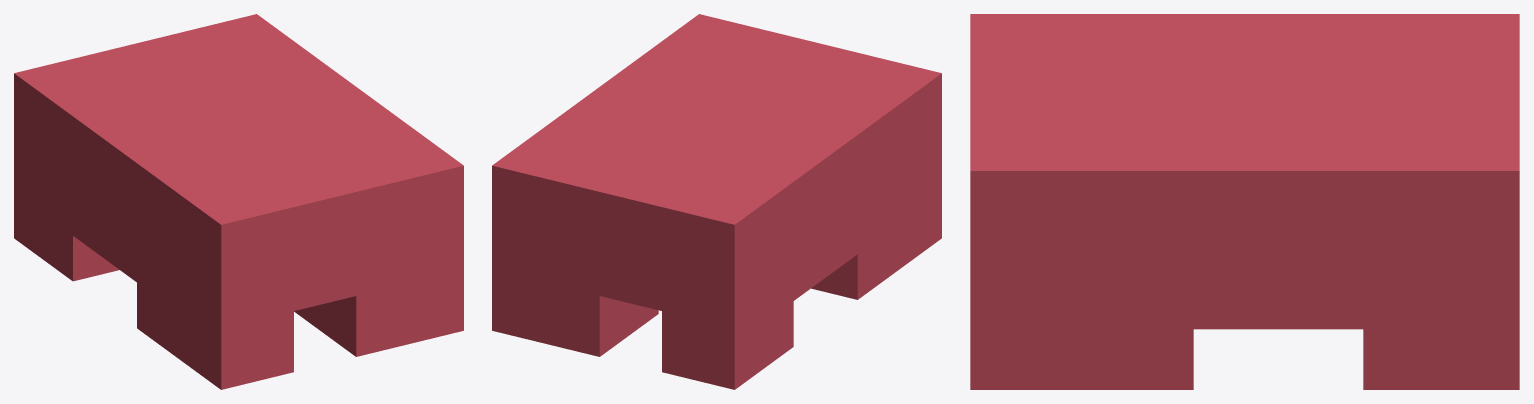
File: table model.glb
3 renders of one model, left to right at view 1: azimuth 30°, elevation 25°; view 2: azimuth 150°, elevation 25°; view 3: azimuth 270°, elevation 25°, orthographic. The views are drawn at different scales.
Visible parts, largest first — view 1: Mesh_Mesh_head_geo.001_lambert2SG.001; view 2: Mesh_Mesh_head_geo.001_lambert2SG.001; view 3: Mesh_Mesh_head_geo.001_lambert2SG.001.
Boxes of the visible parts, x1=… form: Mesh_Mesh_head_geo.001_lambert2SG.001: x1=14, y1=14, x2=463, y2=389; Mesh_Mesh_head_geo.001_lambert2SG.001: x1=492, y1=14, x2=941, y2=389; Mesh_Mesh_head_geo.001_lambert2SG.001: x1=970, y1=14, x2=1519, y2=389.
Size of the model in its own units: 83.24 by 54.1 by 123.
